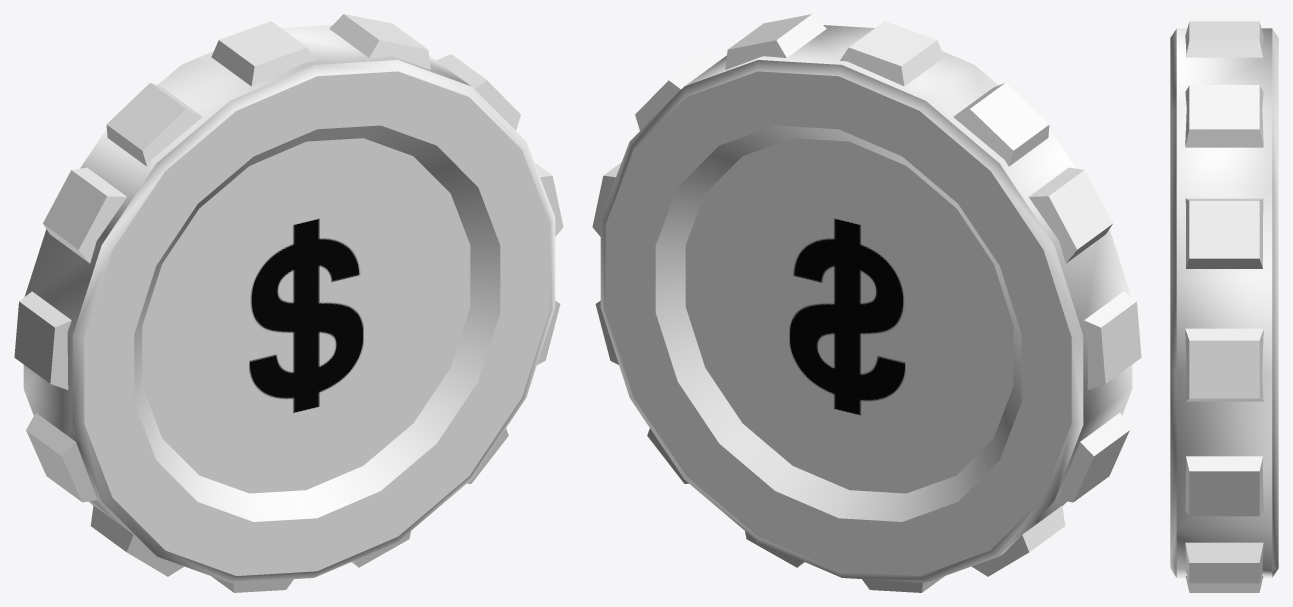
File: CoinLowPoly.glb
3 views of the same model, side by side, from view 1: azimuth 30°, elevation 25°; view 2: azimuth 150°, elevation 25°; view 3: azimuth 270°, elevation 25° (orthographic). The views are drawn at different scales.
Visible parts, largest first — view 1: Circle; view 2: Circle; view 3: Circle.
Part boxes in pixels (box(x1,y1,x2,y2)): Circle: box(14, 14, 563, 592); Circle: box(592, 14, 1141, 592); Circle: box(1170, 14, 1278, 592).
Bounding box in the file's own units: 1.02 × 1.02 × 0.19.
1 material, 1 textured.
